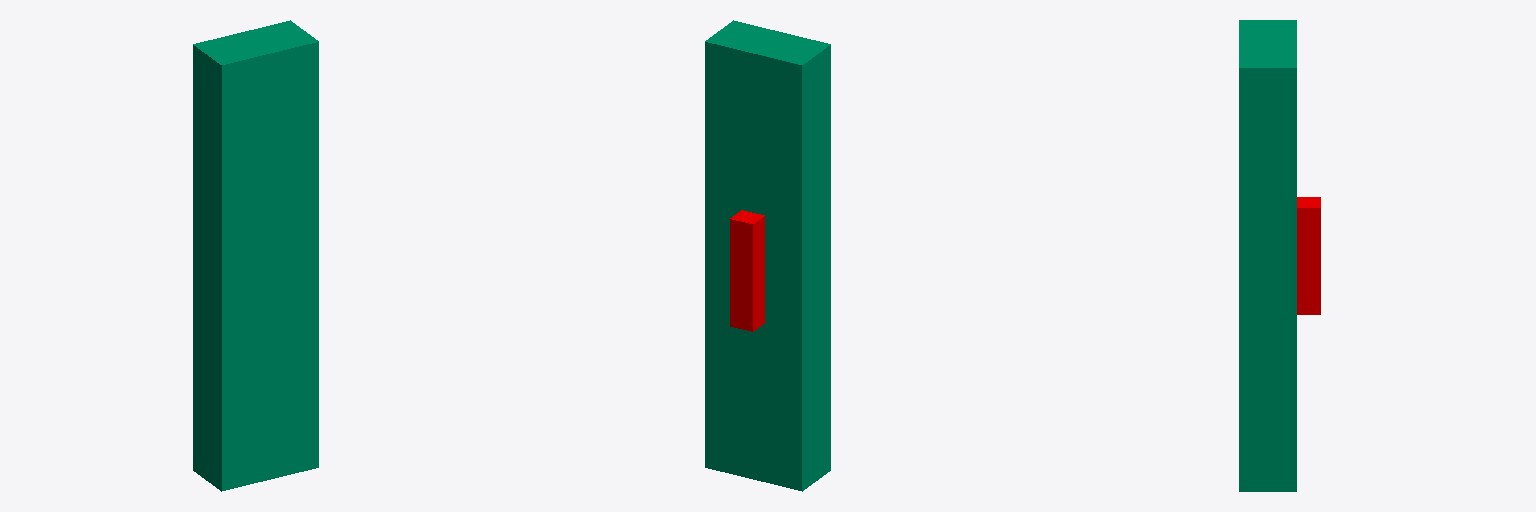
URDF robot description (knife):
<?xml version='1.0' encoding='utf-8'?>
<robot name="knife">
  <link name="base" /><joint name="joint_0" type="fixed"><origin xyz="0 0 0" rpy="0 0 0" /><parent link="base" /><child link="link_0" /></joint><link name="link_1">
    <visual name="link_1">
      <origin xyz="0 0.011699 0" rpy="0 0 0" />
      <geometry>
        <box size="0.007690469716757433 0.006936899396086784 0.033840260126017346" /></geometry>
    <material name="red"><color rgba="1 0 0 1" /></material></visual>
    <collision>
      <origin xyz="0 0.011699 0" rpy="0 0 0" />
      <geometry>
        <box size="0.007690469716757433 0.006936899396086784 0.033840260126017346" /></geometry>
    </collision>
    </link>
  <joint name="joint_1" type="prismatic">
    <origin xyz="0 0 0" />
    <axis xyz="0 0 1" />
    <child link="link_1" />
    <parent link="link_0" />
    <limit lower="-0.028474" upper="0.021526" effort="100.0" velocity="1.0" />
  </joint>
  <link name="link_0">
    <visual name="link_0">
      <origin xyz="0 0 0" />
      <geometry>
        <box size="0.03223245966133783 0.016461672192622512 0.134100591150854" /></geometry>
    </visual>
    <collision>
      <origin xyz="0 0 0" />
      <geometry>
        <box size="0.03223245966133783 0.016461672192622512 0.134100591150854" /></geometry>
    </collision>
    </link>
</robot>

--- Render facts (derived) ---
3 views of the same robot in one strip: view 1: azimuth 30°, elevation 25°; view 2: azimuth 150°, elevation 25°; view 3: azimuth 270°, elevation 25° (orthographic).
Model knife with 3 links and 2 joints (1 prismatic, 1 fixed), rooted at base, posed all joints at 0.
Visible links, largest first — view 1: link_0; view 2: link_0, link_1; view 3: link_0, link_1.
Boxes of the visible links, x1,y1,x2,y2 form: link_0: [193, 20, 318, 491]; link_0: [705, 20, 830, 491]; link_1: [730, 210, 764, 331]; link_0: [1239, 20, 1296, 491]; link_1: [1297, 197, 1320, 314].
Size in the robot's own frame: 0.0322 by 0.0234 by 0.1341 metres.
Geometry: primitives only (box / cylinder / sphere), no mesh files.
